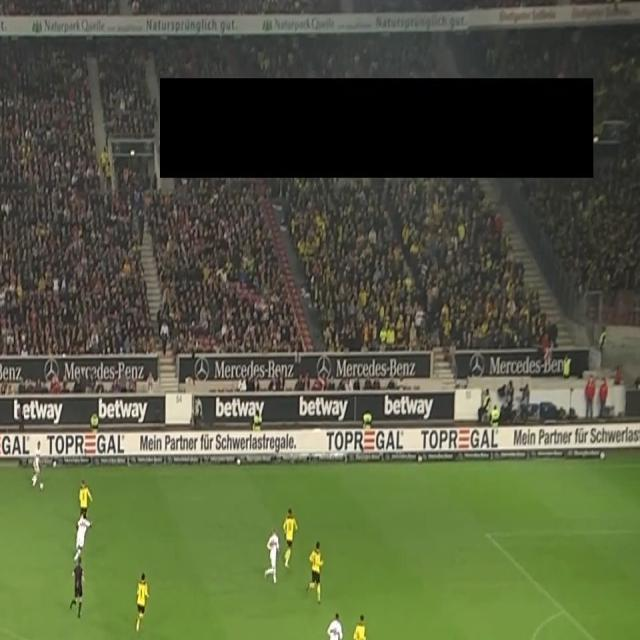ball: (39, 482, 44, 491)
